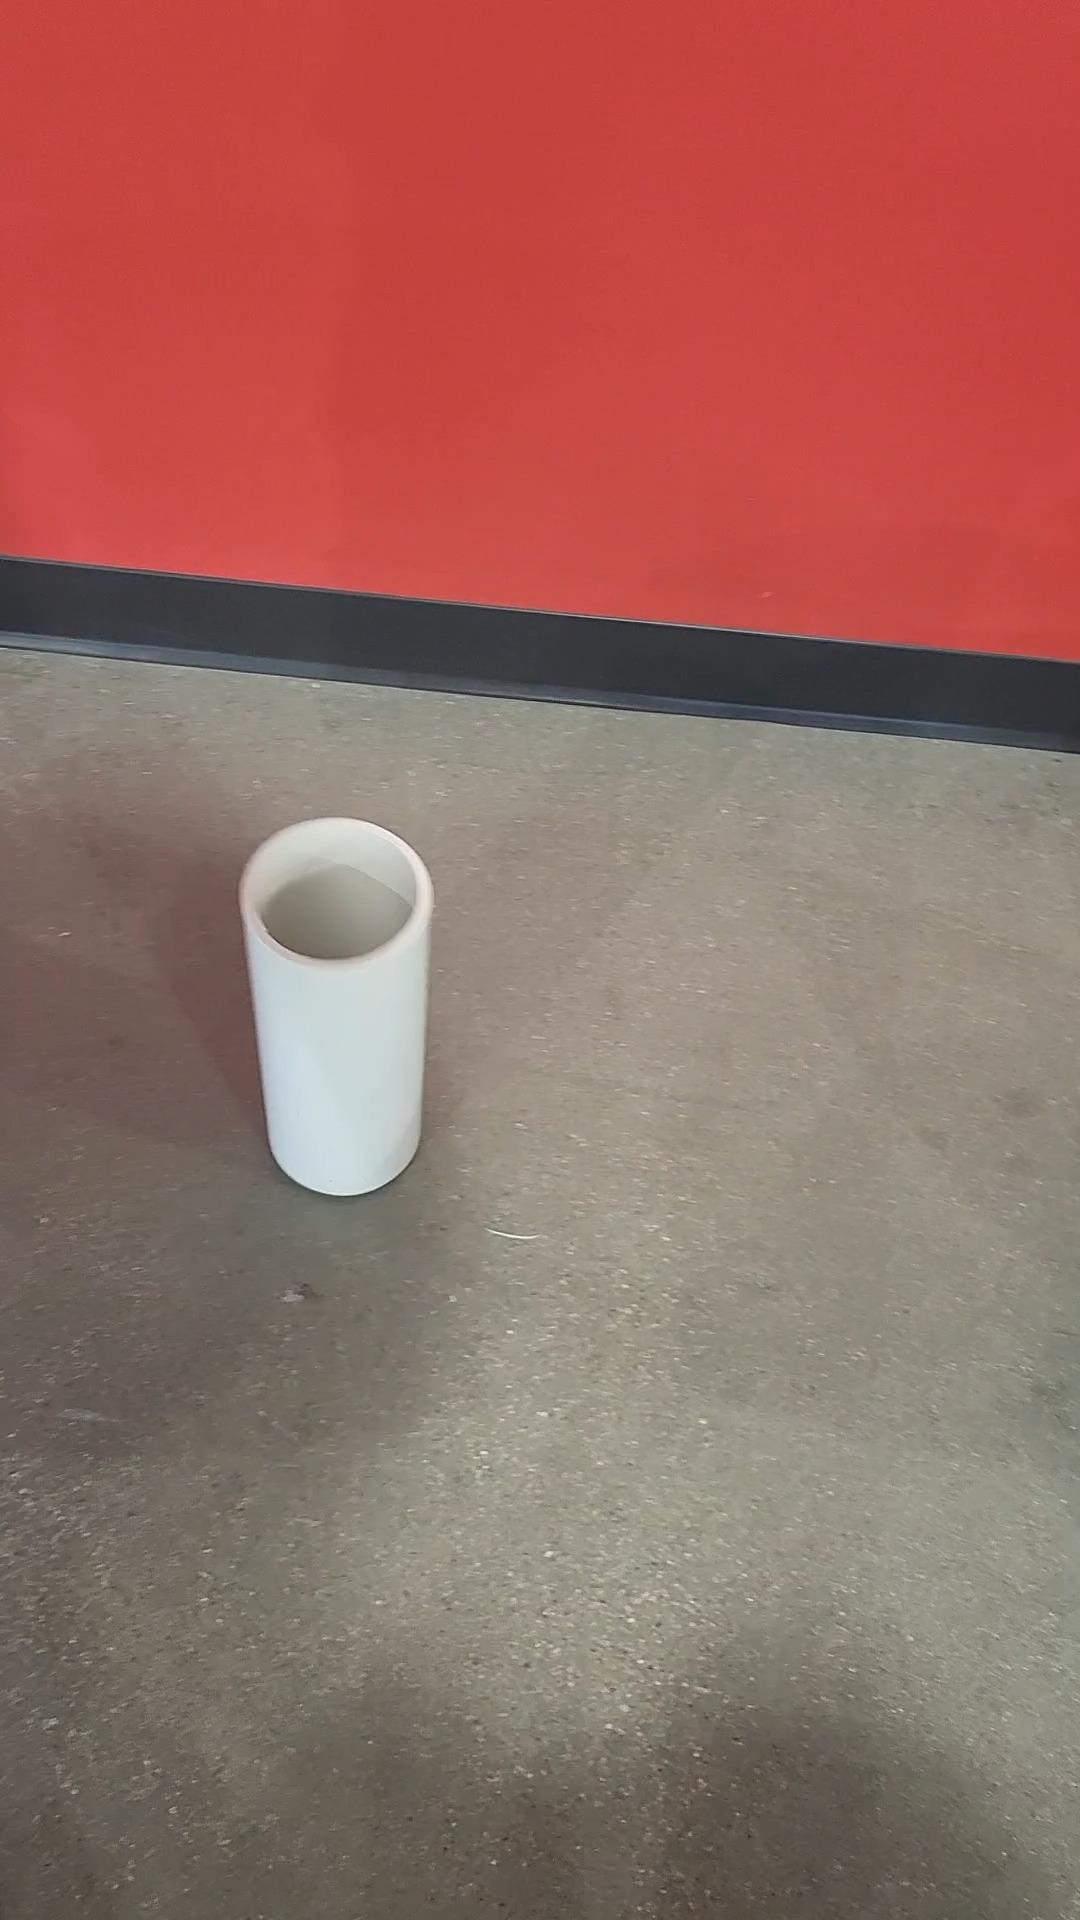coral: (251, 822, 426, 1192)
